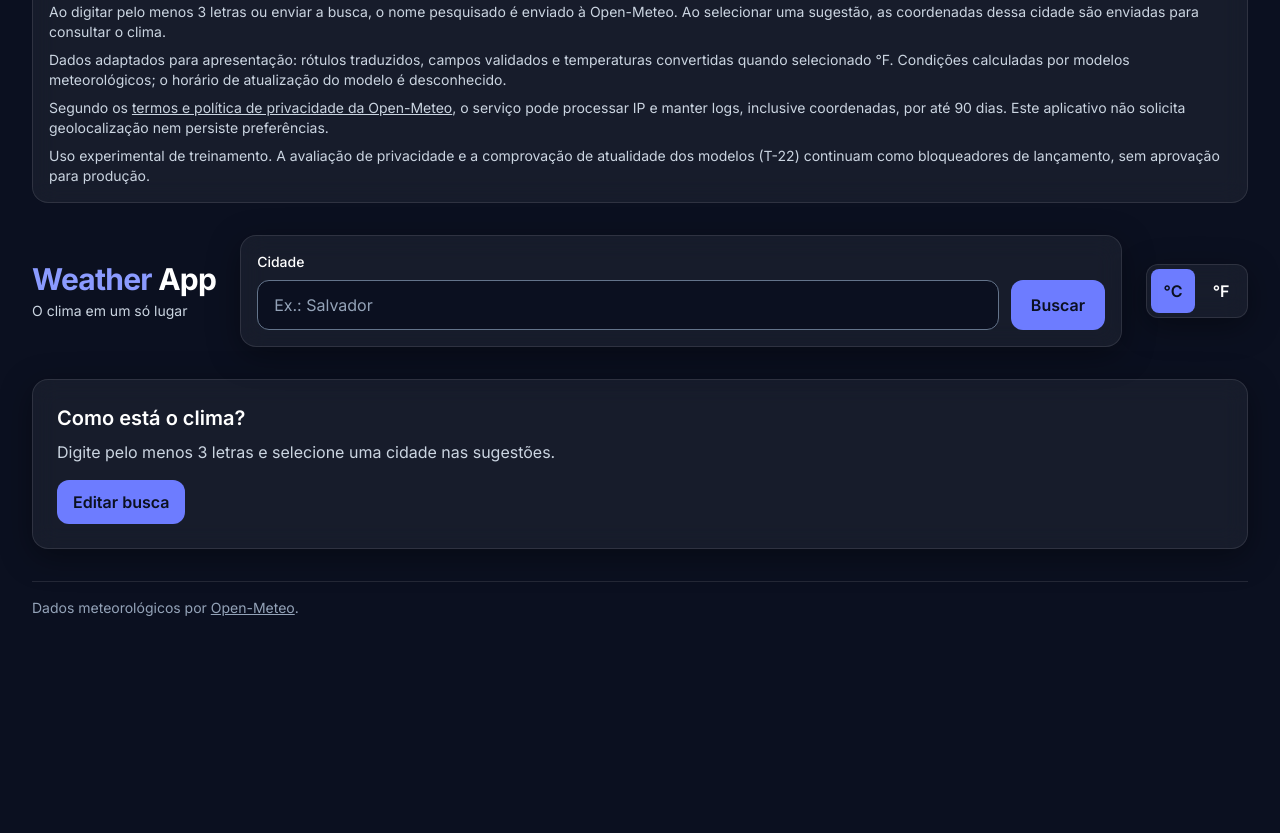
Test: App com API e estados independentes › renderiza parcial e vazio meteorológico sem inventar valores
The image size is (1280, 833).
Type "Sal" into the dropdown labelled "Cidade".
click(628, 305); type("Sal")  # box [257,280,999,330]
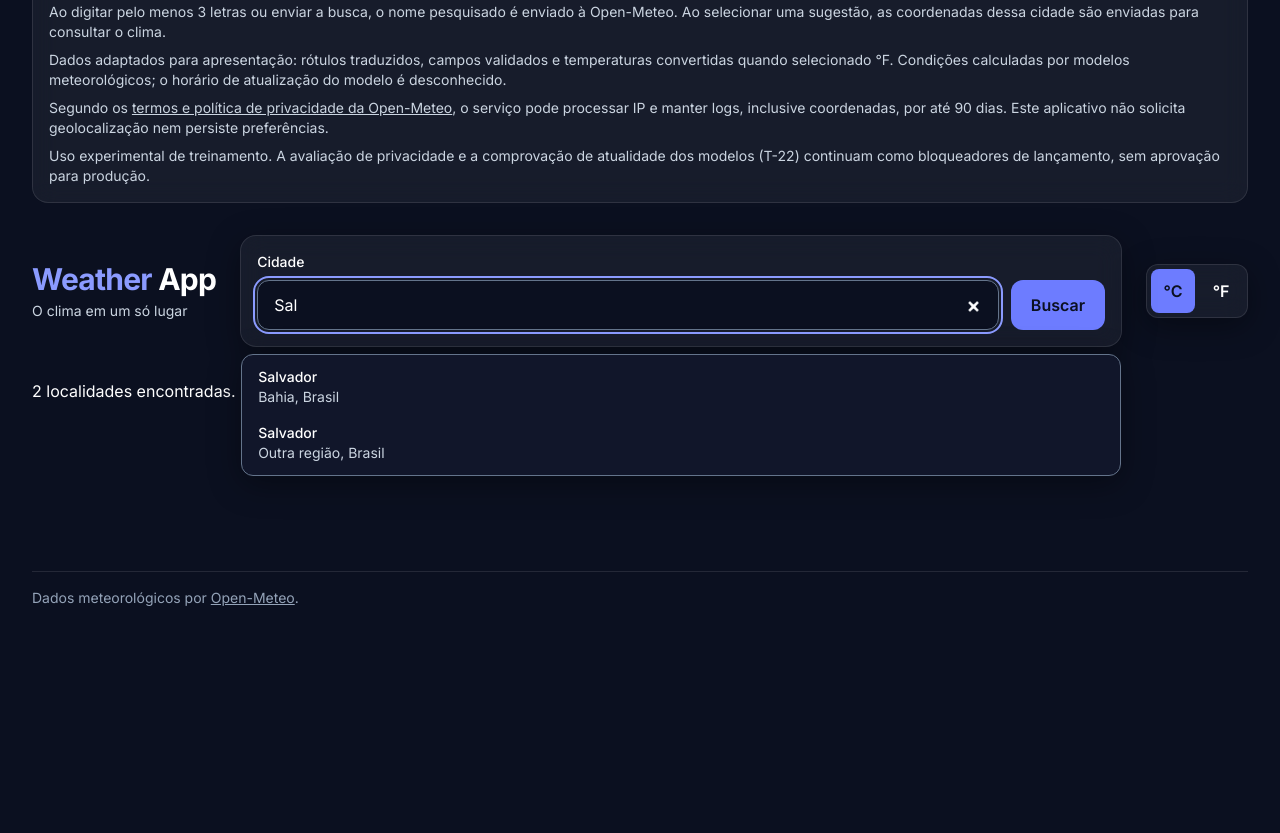
Click the option "Salvador Bahia, Brasil".
click(288, 376)  # box [246,359,1116,415]
(page scrolled)
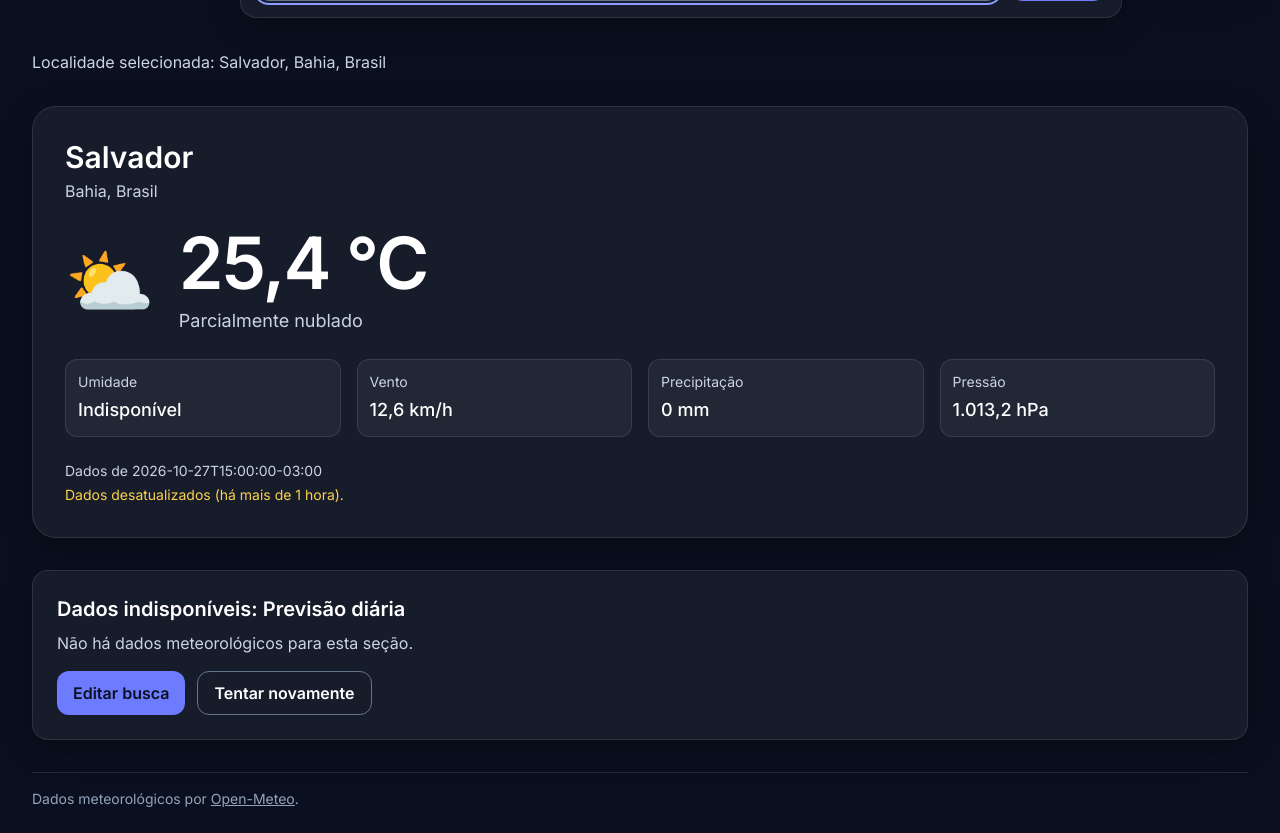
Expected: the element "Salvador" shows "Indisponível", [78,399,182,420]
Expected: the heading "Dados indisponíveis: Previsão diária" is shown, [57,597,405,621]
